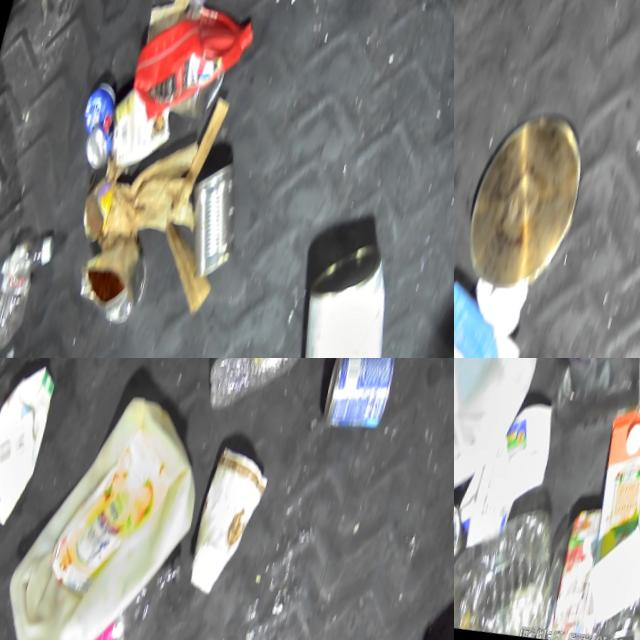can: (272, 233, 423, 358), (172, 155, 260, 292), (72, 233, 160, 337), (315, 358, 403, 450), (69, 75, 132, 178), (75, 173, 122, 250)
milk_jug: (454, 358, 553, 519)
non_white_jug: (121, 0, 261, 143)
plastic_bottle: (454, 488, 574, 640), (197, 358, 325, 437), (0, 223, 62, 358)
